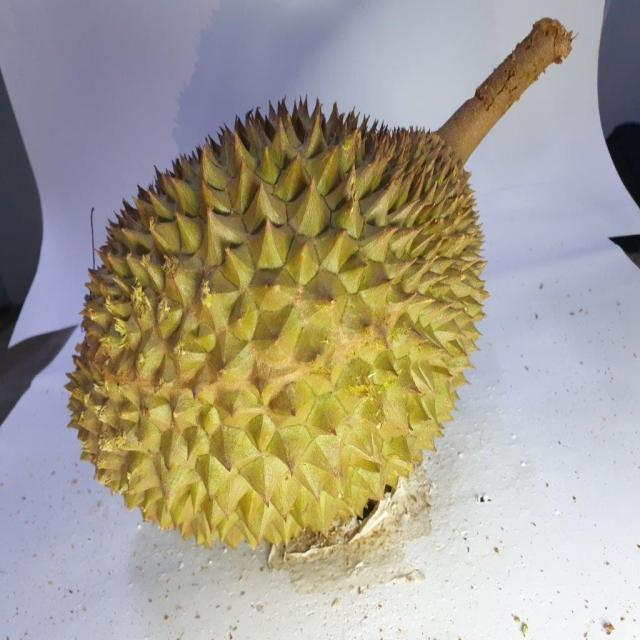immature: (61, 88, 492, 541)
